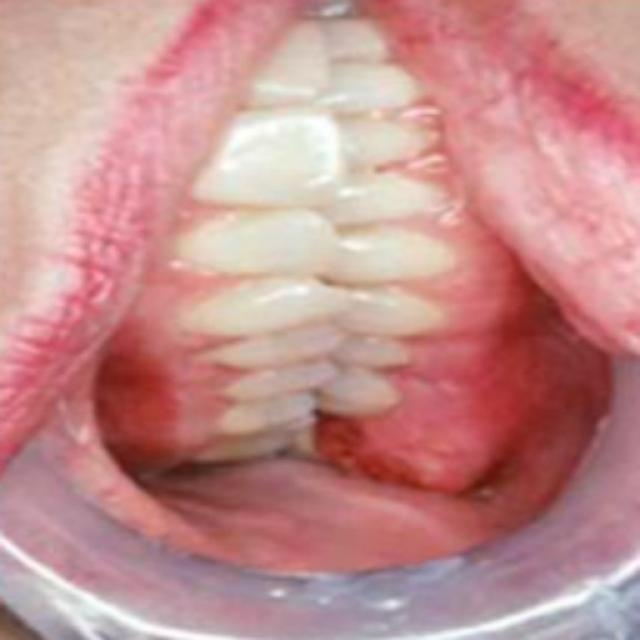cancer-detection: (314, 42, 639, 514), (53, 320, 197, 481)
processing_area: (202, 0, 638, 570), (0, 0, 313, 573)
